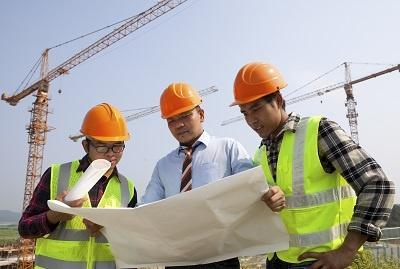helmet: (233, 60, 296, 104), (78, 100, 135, 146), (159, 81, 202, 120)
person: (229, 58, 400, 269), (19, 94, 138, 269), (141, 82, 249, 199)
vest: (259, 129, 343, 269), (43, 163, 123, 269)
